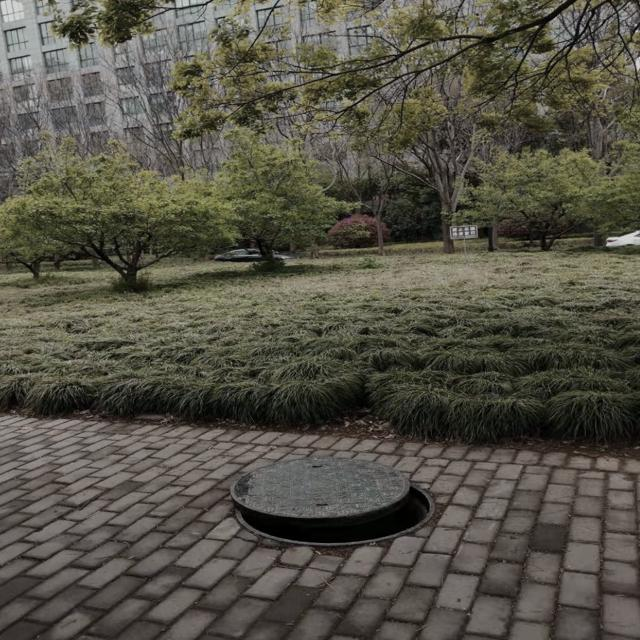uncovered: (210, 443, 448, 561)
